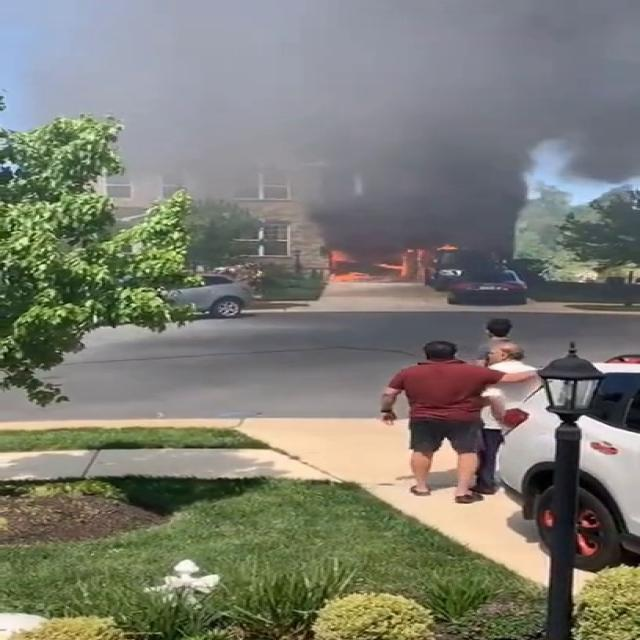Smoke: (120, 0, 636, 255)
